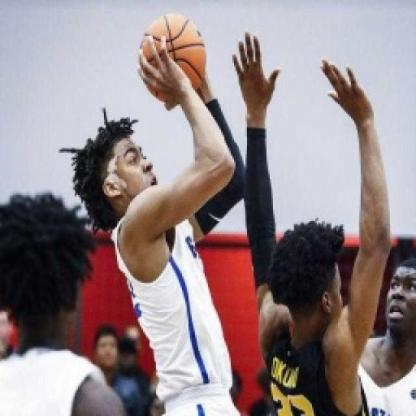basketball: (132, 9, 218, 112)
